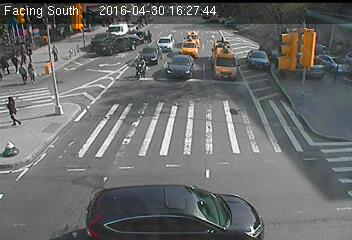neg: (239, 127, 284, 187), (72, 143, 102, 183), (288, 31, 317, 71), (139, 137, 167, 174), (210, 97, 235, 130), (229, 40, 251, 69), (166, 39, 187, 67), (135, 54, 153, 78), (84, 27, 101, 50)
pos: (3, 93, 27, 126), (24, 59, 42, 83), (48, 41, 62, 60), (16, 60, 30, 79)
